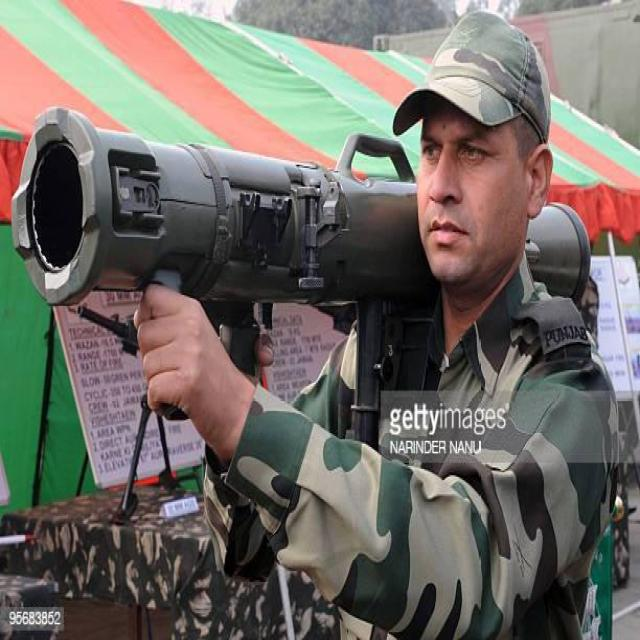bazooka: (12, 86, 599, 320)
